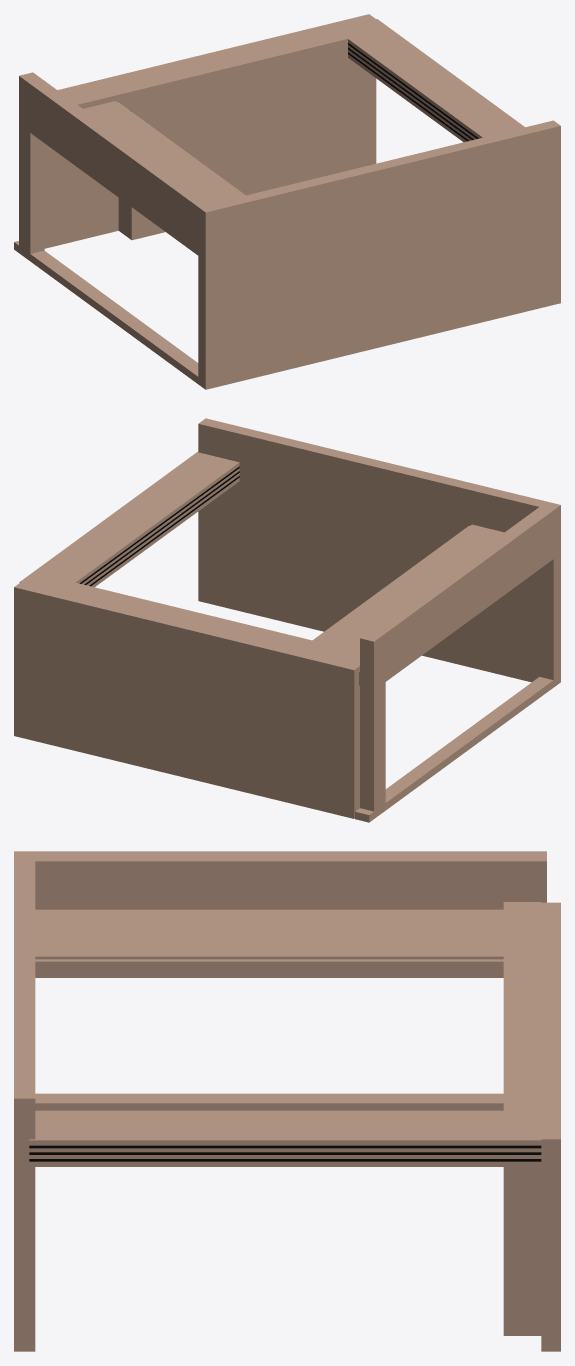
3 renders of one model, top to bottom at view 1: azimuth 30°, elevation 25°; view 2: azimuth 150°, elevation 25°; view 3: azimuth 270°, elevation 25°, orthographic. The views are drawn at different scales.
Visible parts, largest first — view 1: XD-墙面; view 2: XD-墙面; view 3: XD-墙面.
Boxes of the visible parts, x1=… form: XD-墙面: x1=14, y1=14, x2=560, y2=389; XD-墙面: x1=14, y1=418, x2=560, y2=822; XD-墙面: x1=14, y1=851, x2=560, y2=1351.
Size of the model in its own units: 7.57 by 7.06 by 3.6.
